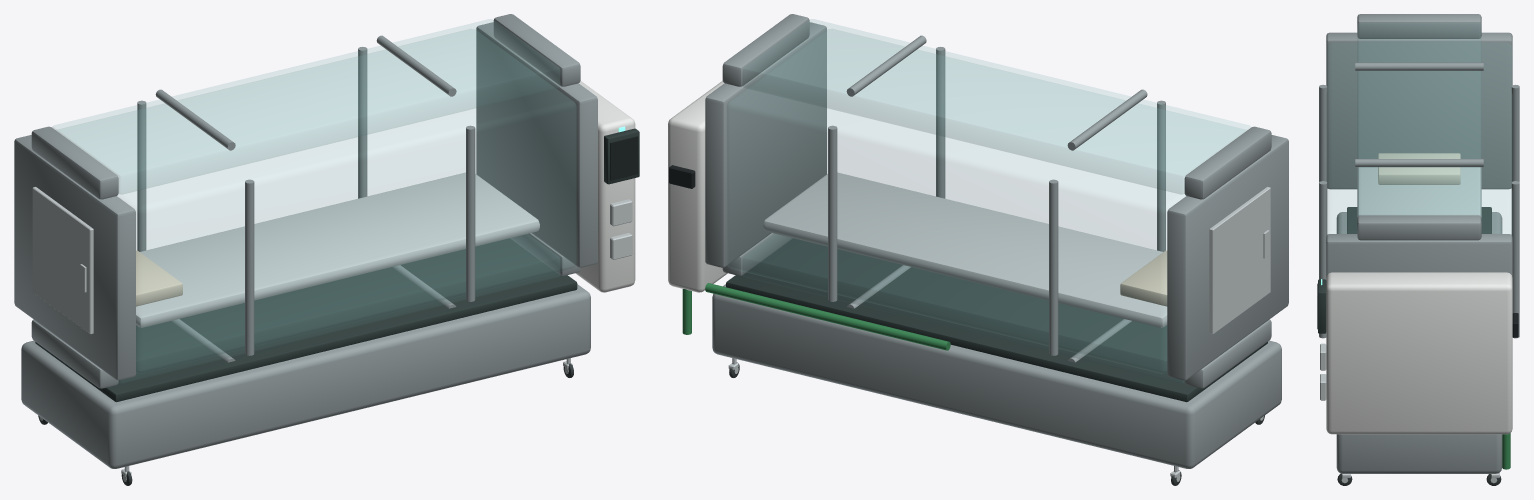
Rendered from hyperbaric-chamber.glb.
3 renders of one model, left to right at view 1: azimuth 30°, elevation 25°; view 2: azimuth 150°, elevation 25°; view 3: azimuth 270°, elevation 25°, orthographic. The views are drawn at different scales.
Parts seen in each view (by area): view 1: hyperbaric-chamber; view 2: hyperbaric-chamber; view 3: hyperbaric-chamber.
Part boxes in pixels (box(x1,y1,x2,y2)): hyperbaric-chamber: box(14, 14, 639, 485); hyperbaric-chamber: box(668, 14, 1288, 485); hyperbaric-chamber: box(1317, 14, 1519, 485).
Bounding box in the file's own units: 2.62 × 1.48 × 0.979.
